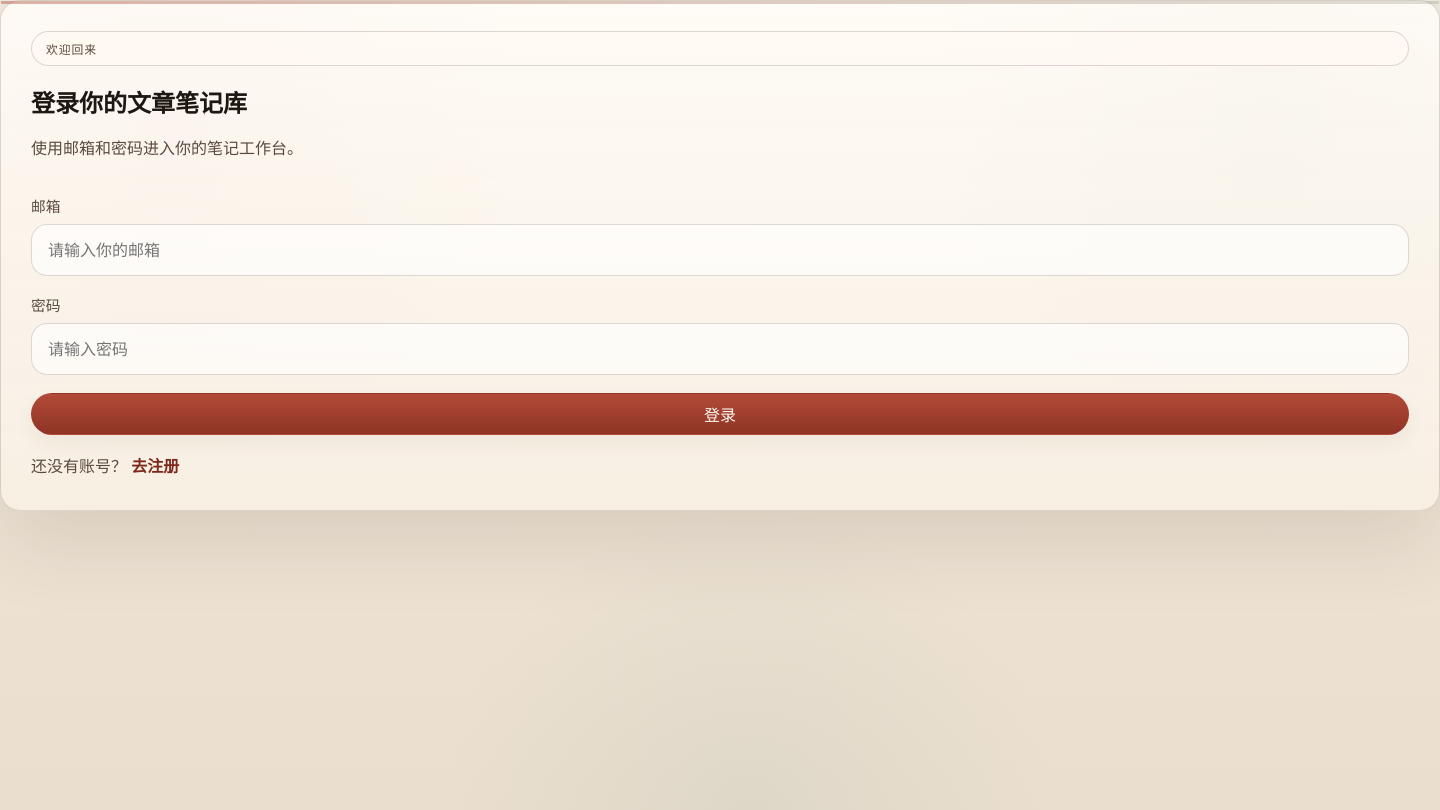
Test: AuthForm › shows validation feedback when email or password is missing
Click the button "登录": (720, 414) [31,393,1409,435]
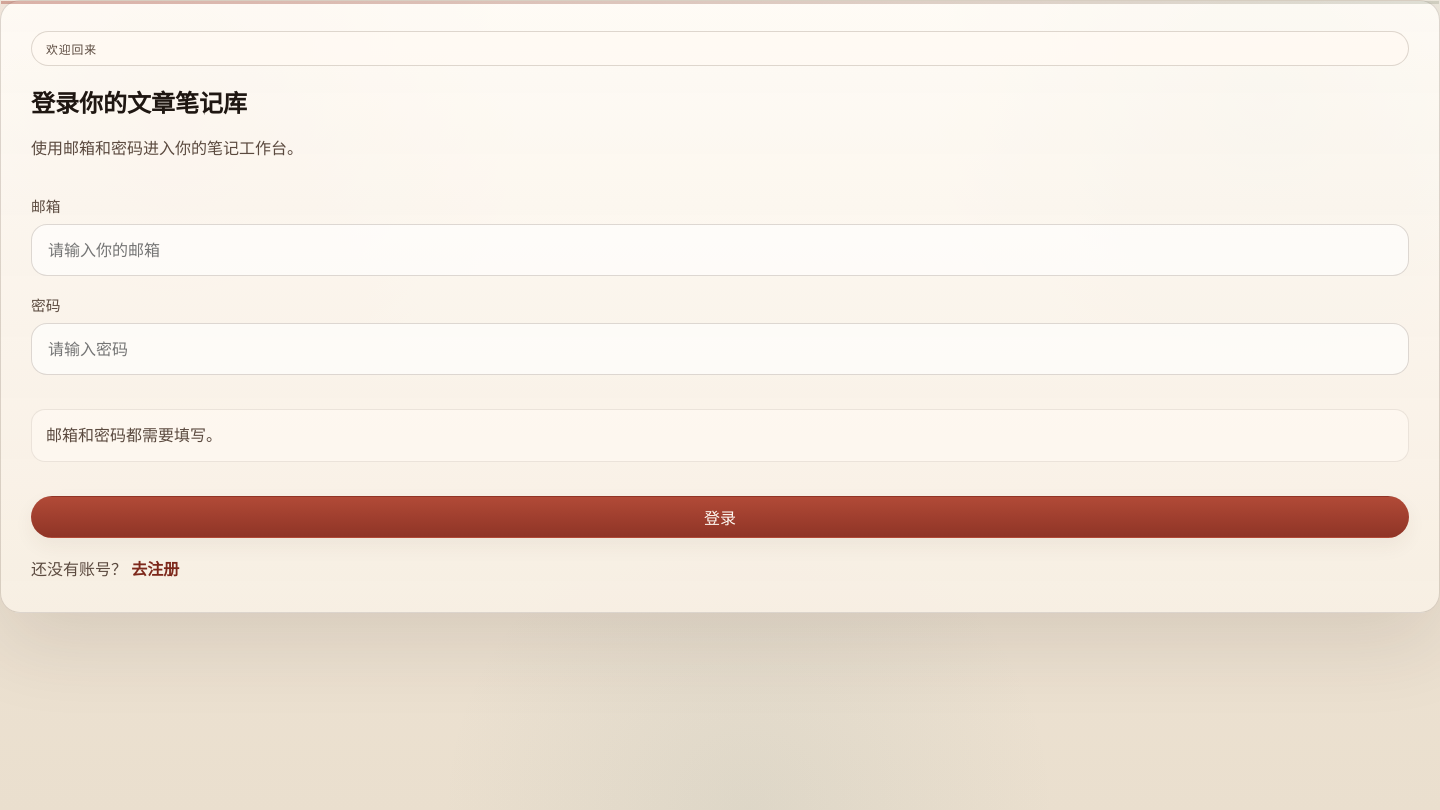
Result: the text "邮箱和密码都需要填写。" is shown at [31,409,1409,462]
